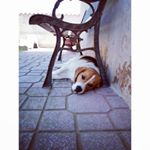puppy: (47, 53, 105, 97)
